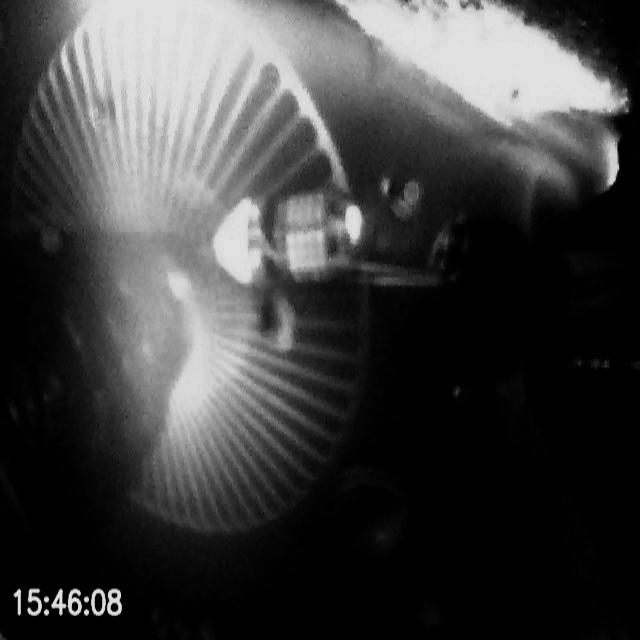head: (213, 189, 374, 285)
